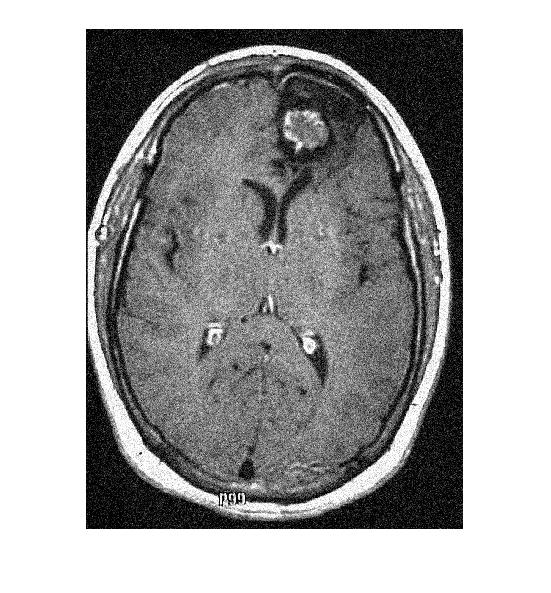Brain_Cancer: (281, 103, 336, 158)
